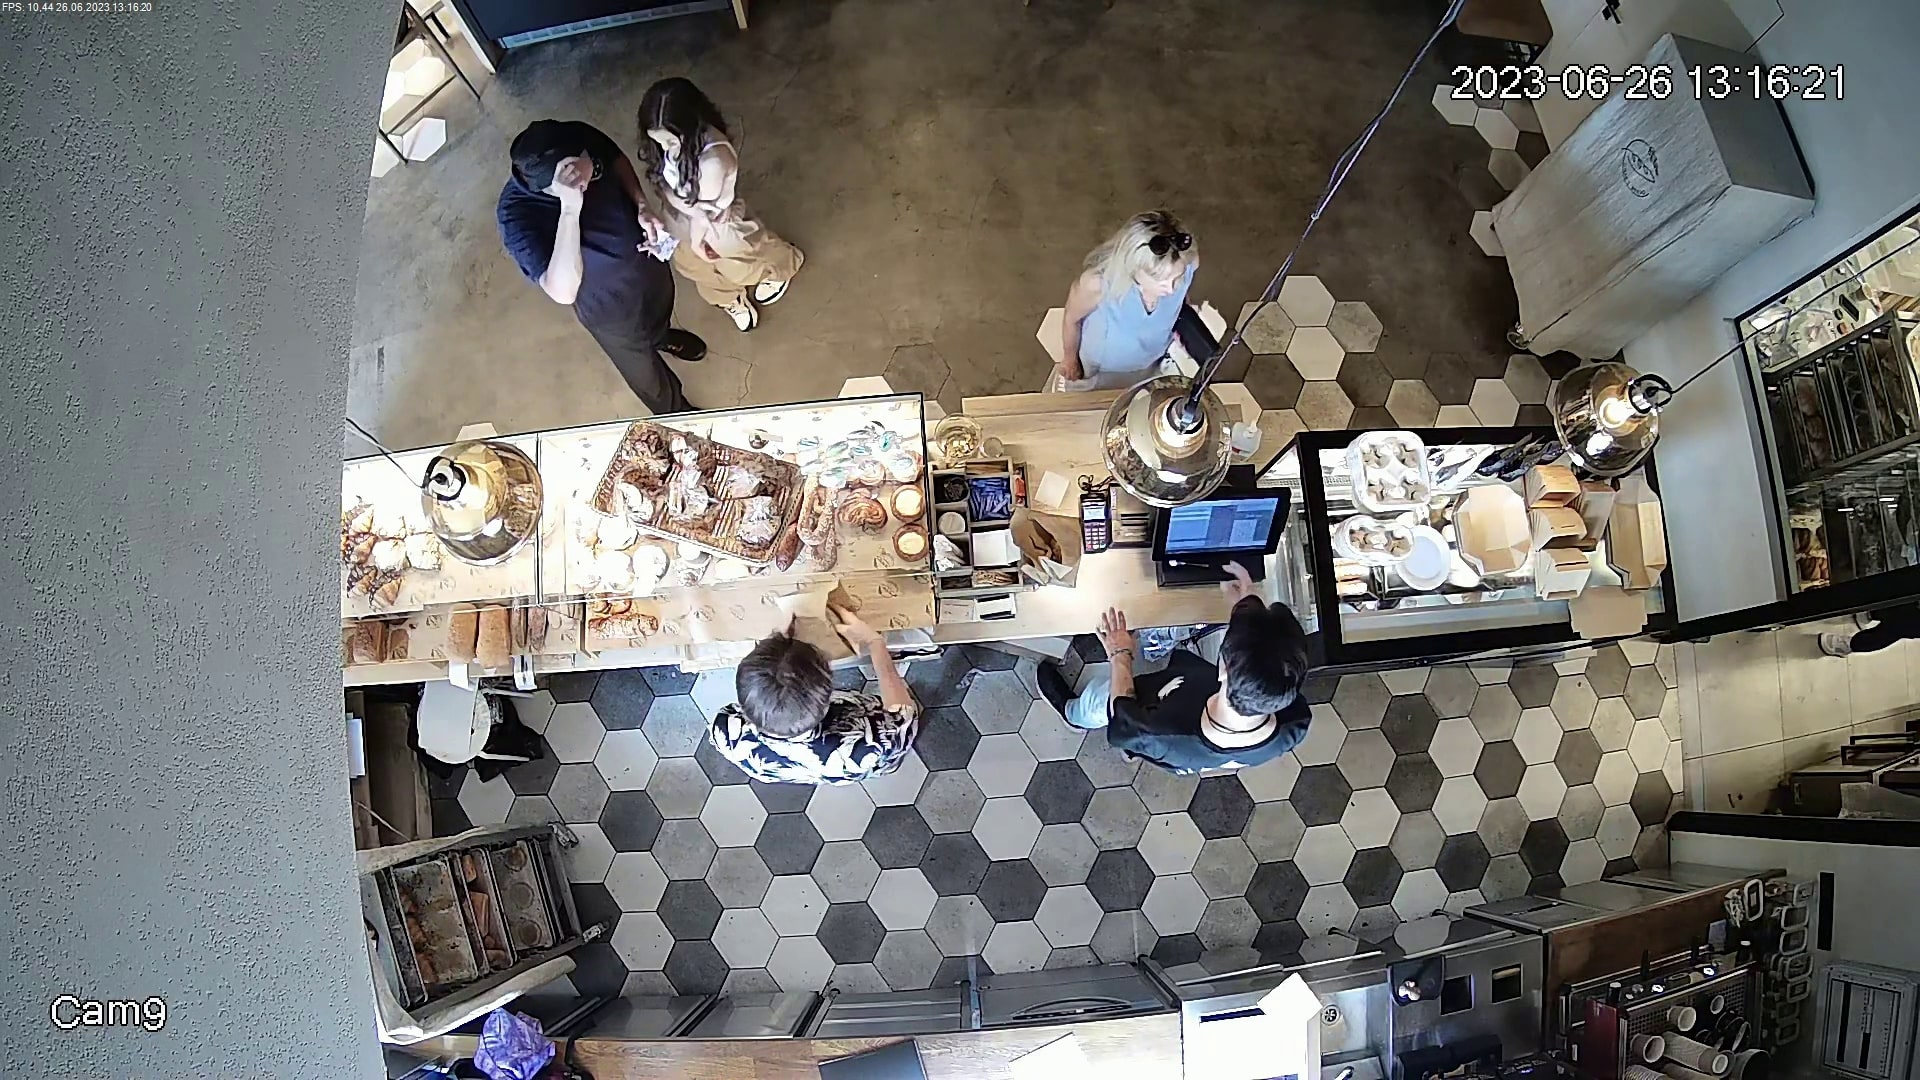barcounter: (346, 448, 1674, 659)
pack: (1005, 503, 1087, 588)
person: (466, 126, 696, 410), (1030, 593, 1328, 786), (632, 83, 825, 330), (693, 615, 935, 797), (1032, 187, 1213, 403)
